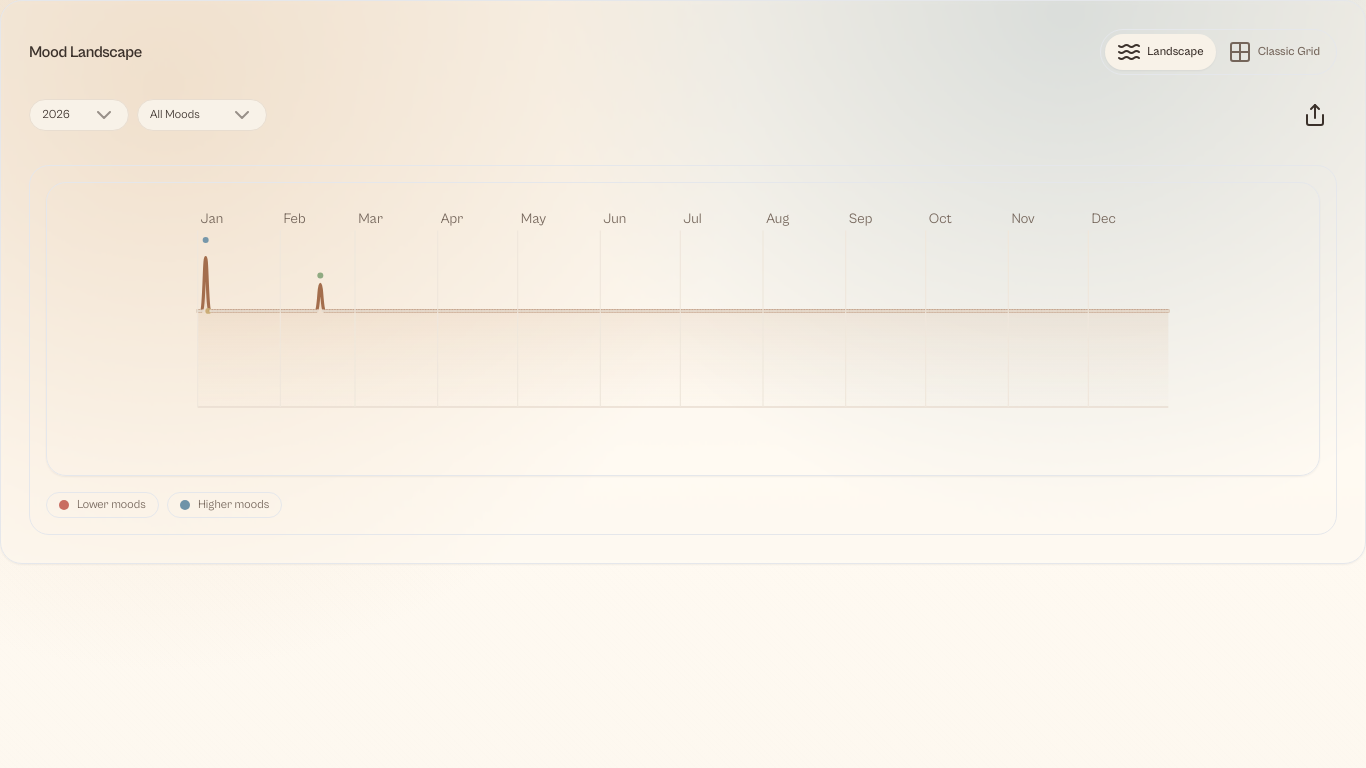
Scenario: YearInPixels › defaults to landscape view and toggles to classic grid
Expected: the picture named "Mood landscape for" is shown, [63,199,1303,459]
Click the button "Classic Grid". click: (1274, 52)
box: [1216,34,1332,70]
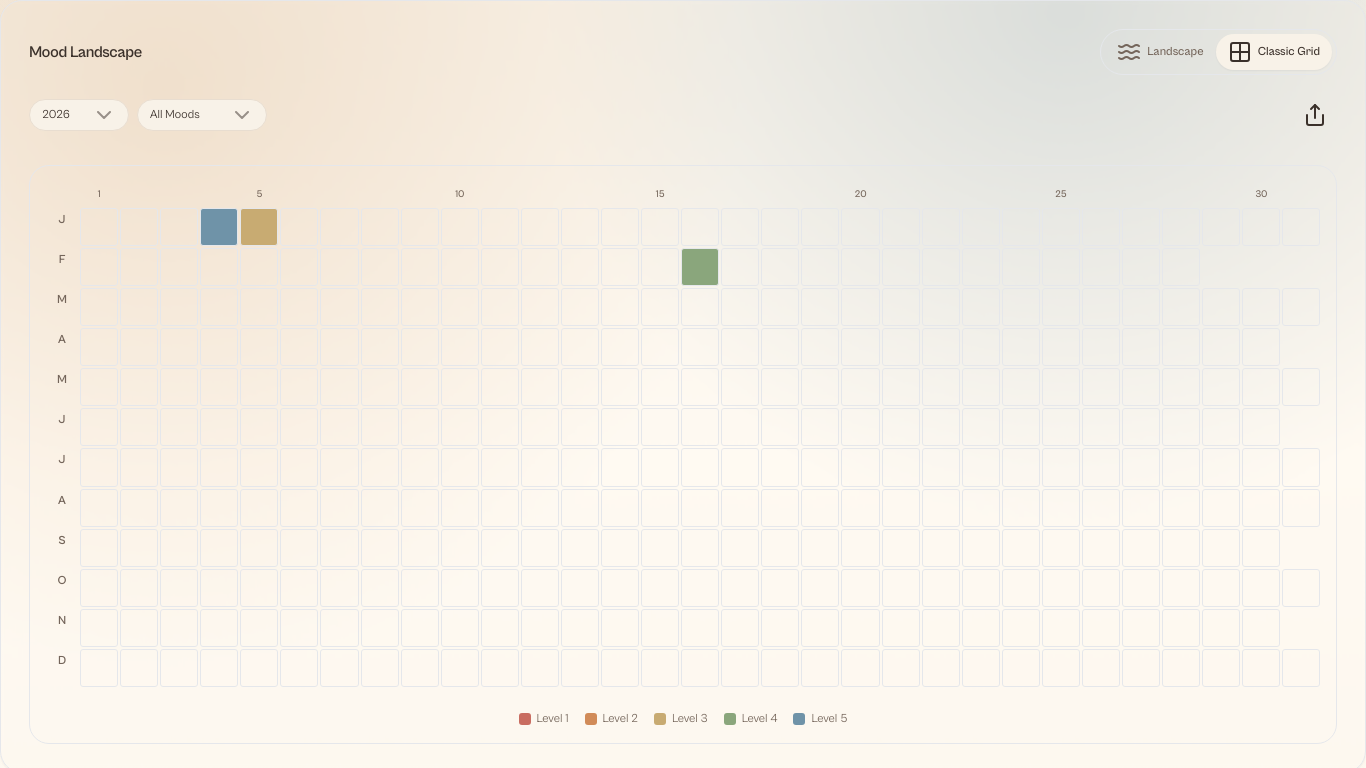
Result: the text "Level 1" is shown at [537,711,569,727]
Click the button "Landscape". click: (1160, 52)
box: [1105,34,1216,70]
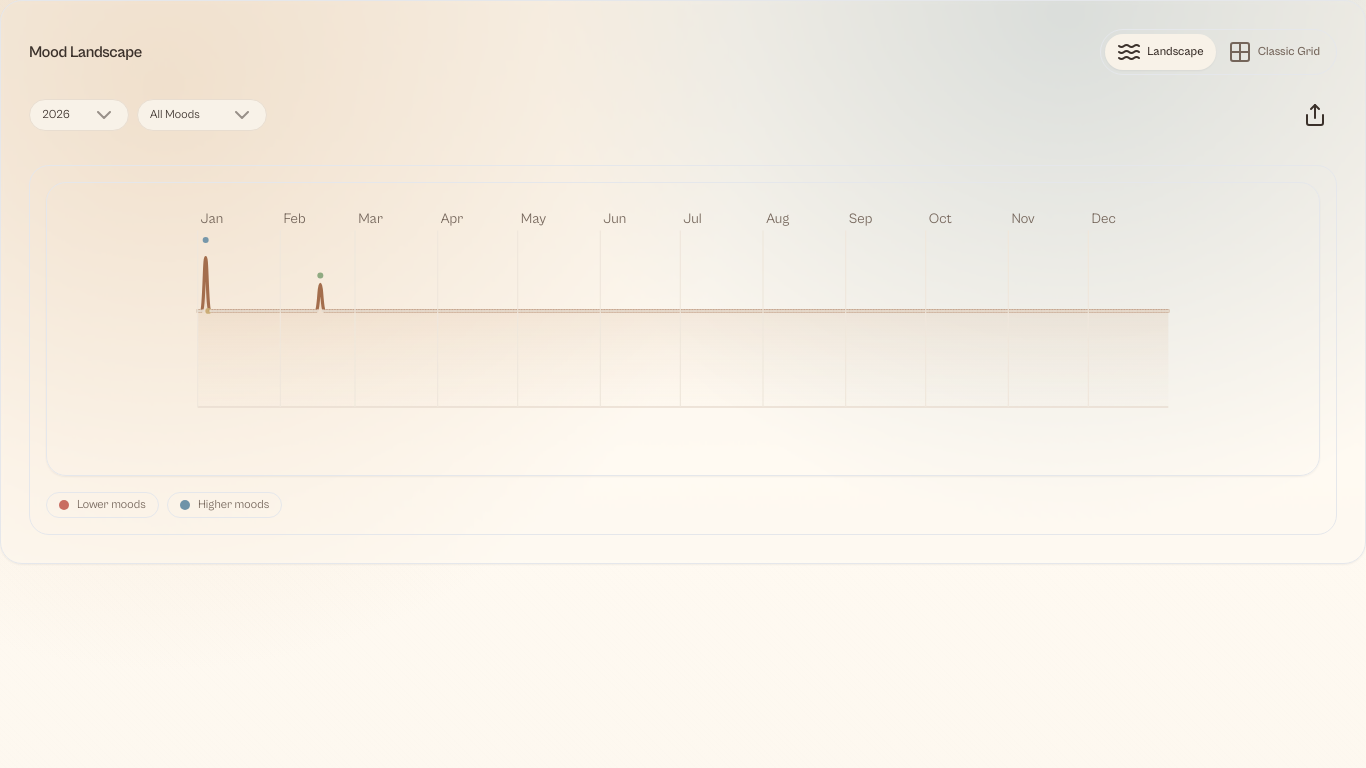
Result: the picture named "Mood landscape for" is shown at [63,199,1303,459]
